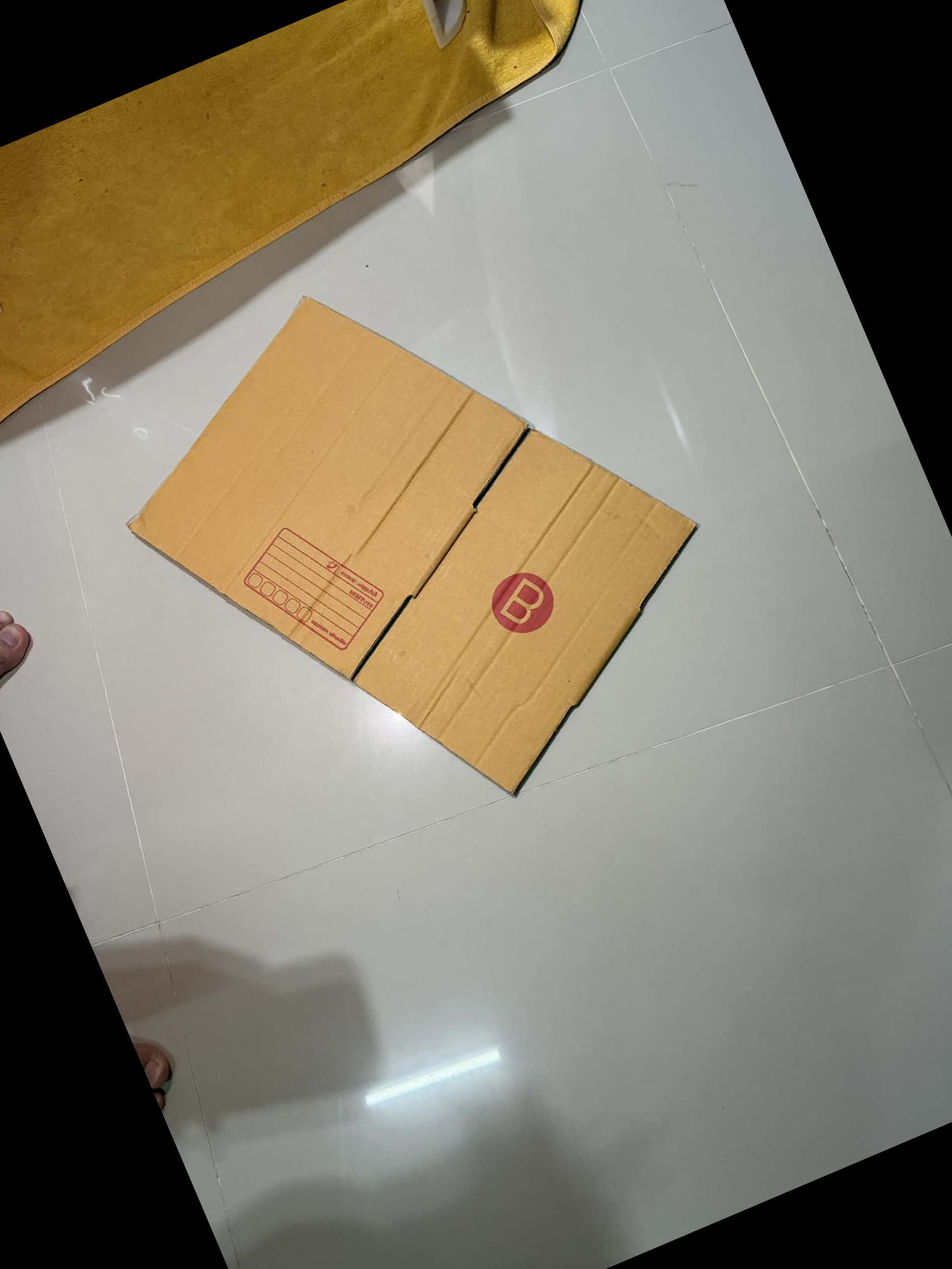box: (232, 498, 397, 672), (470, 552, 571, 650)
class0: (59, 187, 777, 917)
